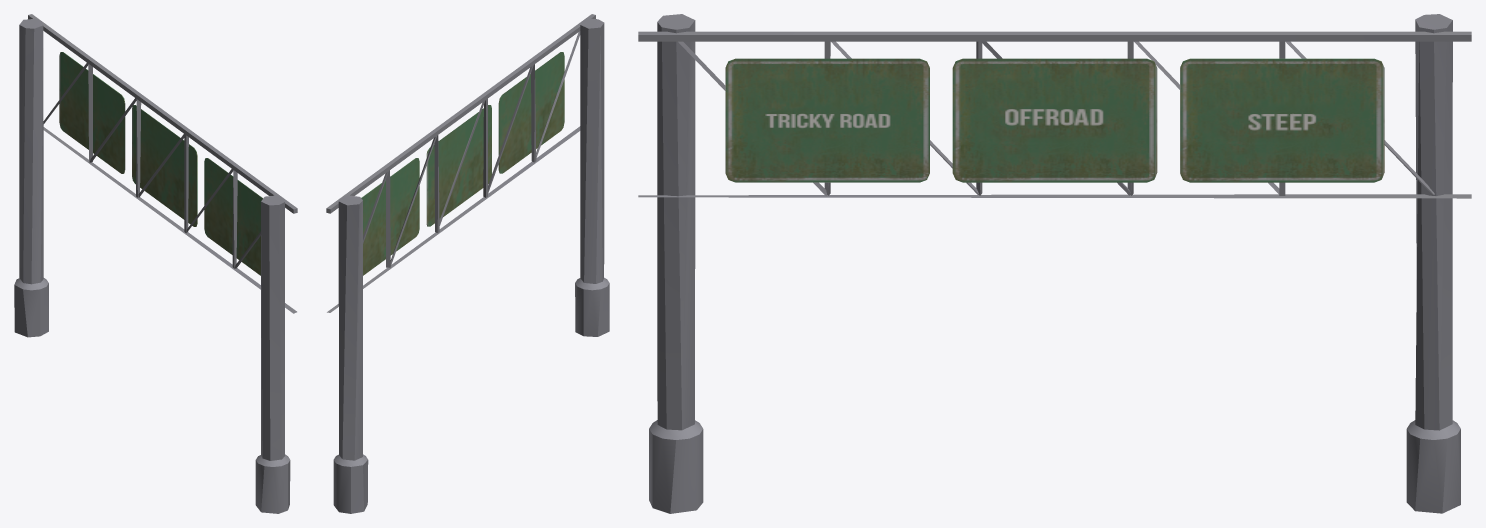
The model's file is OFFROAD BOARD.fbx.
The picture shows the model from 3 angles, left to right: view 1: azimuth 30°, elevation 25°; view 2: azimuth 150°, elevation 25°; view 3: azimuth 270°, elevation 25°; orthographic projection. The views are drawn at different scales.
Parts seen in each view (by area): view 1: SM_Bilboard_01.001; view 2: SM_Bilboard_01.001; view 3: SM_Bilboard_01.001.
Part boxes in pixels (left/top/right/bottom): SM_Bilboard_01.001: left=14, top=14, right=297, bottom=513; SM_Bilboard_01.001: left=326, top=14, right=609, bottom=513; SM_Bilboard_01.001: left=638, top=14, right=1471, bottom=513.
Size of the model in its own units: 71.86 by 700 by 1100.
